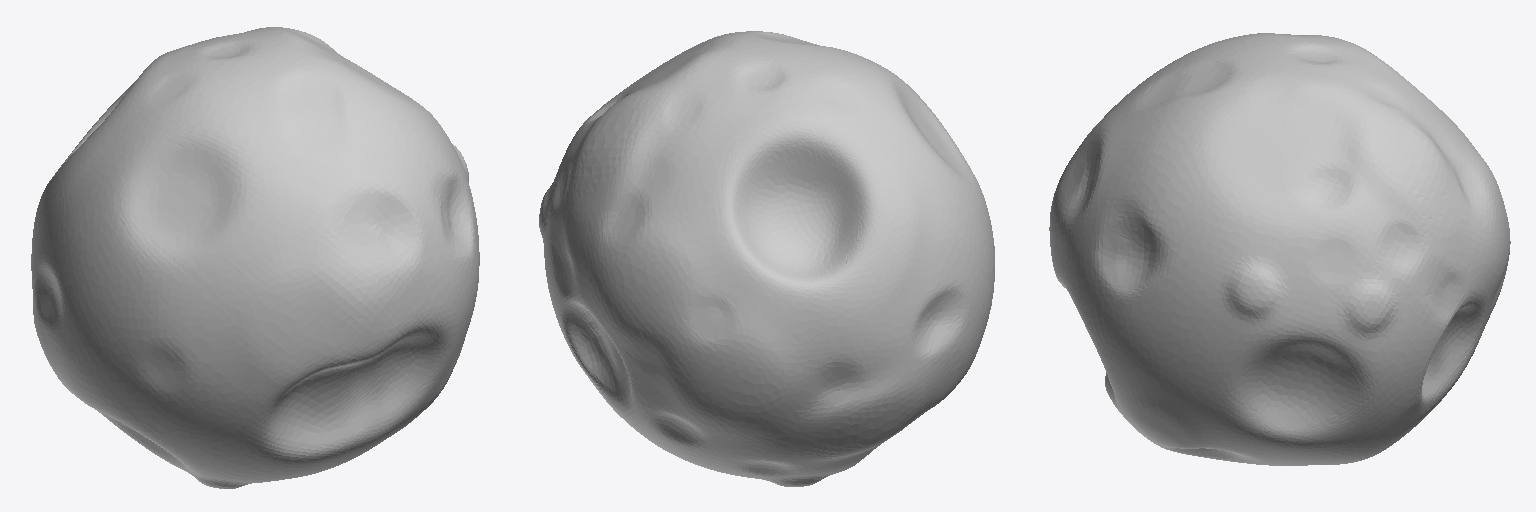
The model's file is planete1.obj.
3 renders of one model, left to right at view 1: azimuth 30°, elevation 25°; view 2: azimuth 150°, elevation 25°; view 3: azimuth 270°, elevation 25°, orthographic.
Parts seen in each view (by area): view 1: planete1; view 2: planete1; view 3: planete1.
Part boxes in pixels (bbox=[...]): planete1: bbox=[31, 27, 479, 488]; planete1: bbox=[539, 31, 994, 486]; planete1: bbox=[1049, 33, 1510, 465].
Bounding box in the file's own units: 1.01 × 0.989 × 1.03.